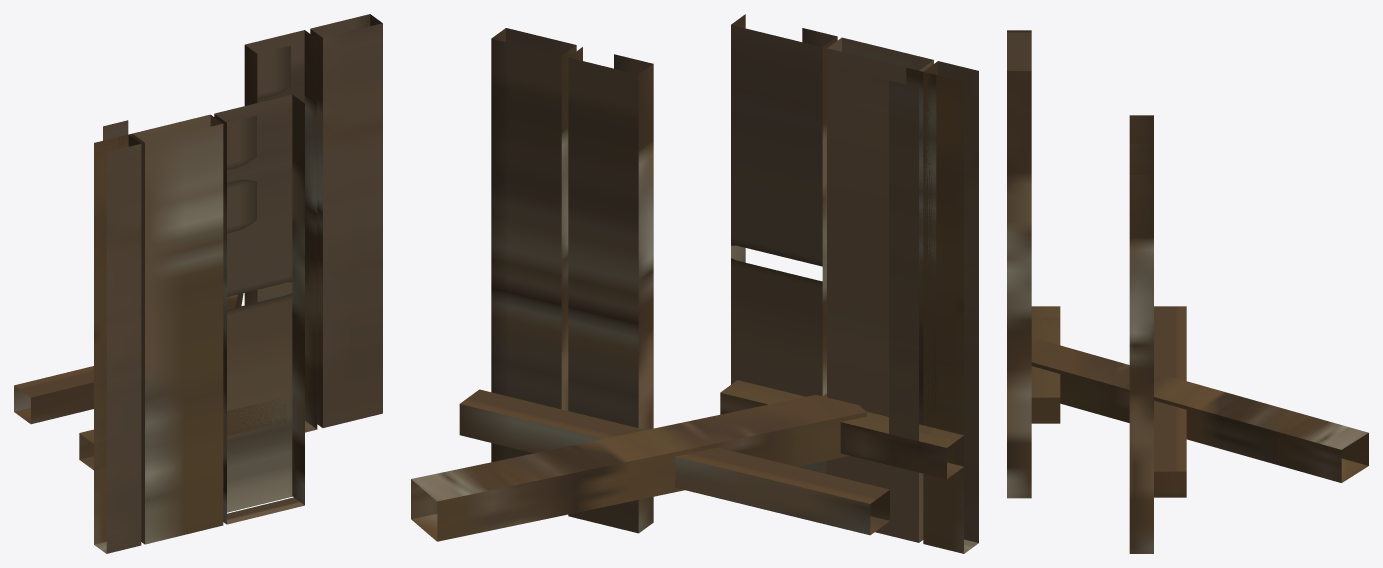
The model's file is section-6.obj.
3 renders of one model, left to right at view 1: azimuth 30°, elevation 25°; view 2: azimuth 150°, elevation 25°; view 3: azimuth 270°, elevation 25°, orthographic. The views are drawn at different scales.
Bounding box in the file's own units: 0.96 × 1.06 × 0.8864.
